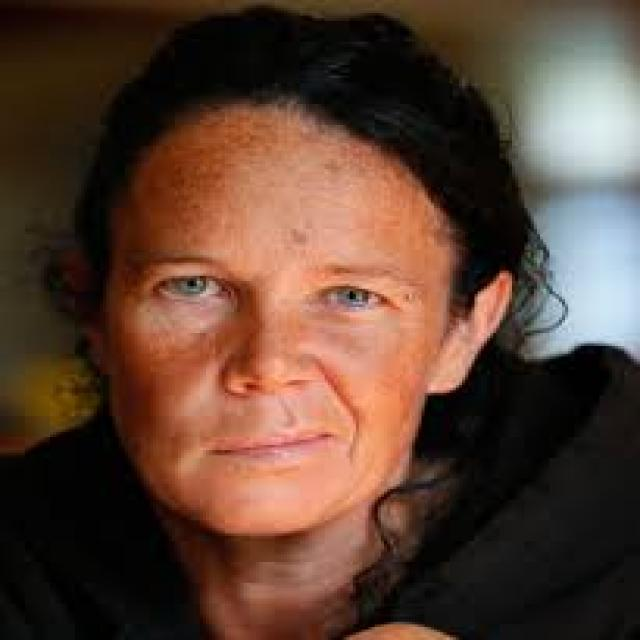stroke_face: (99, 56, 460, 530)
